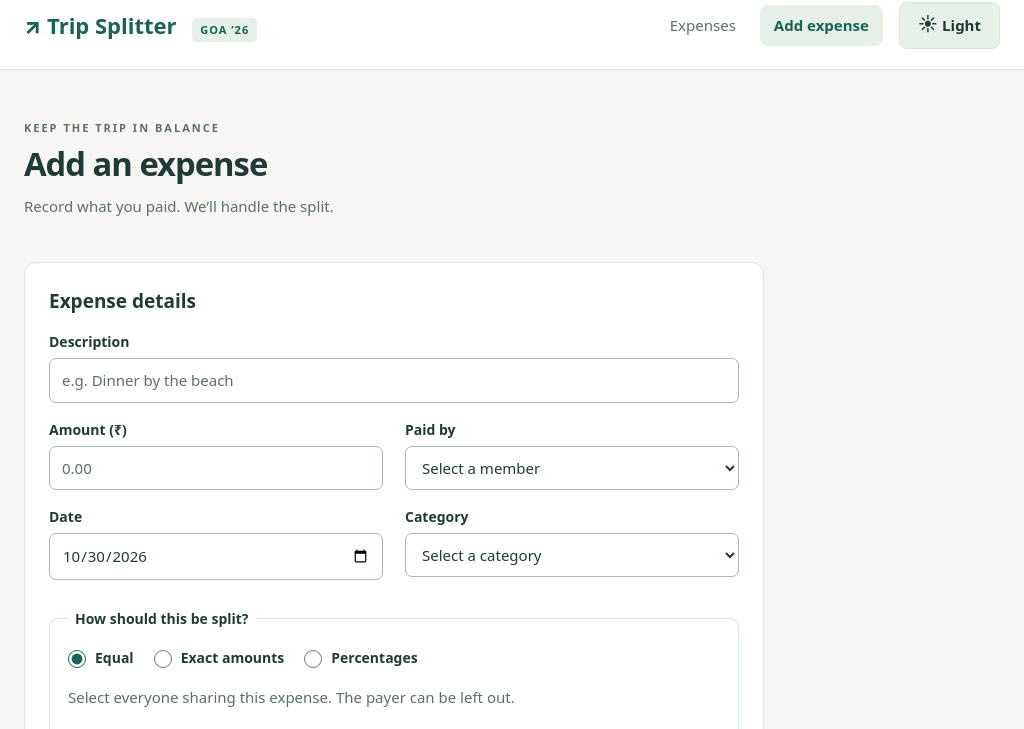
Test: saves a valid Equal expense and navigates home
The width and height of the screenshot is (1024, 729).
Type "Sunset lunch" into the field labelled "Description" at (394, 381), box [49,358,739,403]
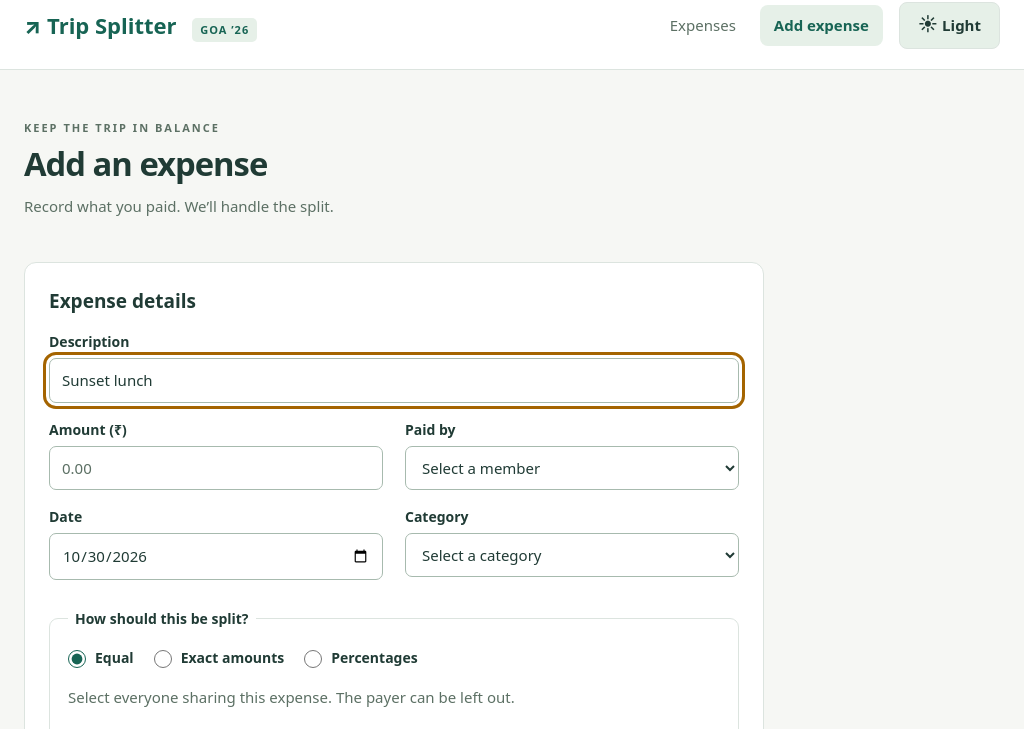
Type "100" into the field labelled "Amount (₹)" at (216, 468), box [49,446,383,490]
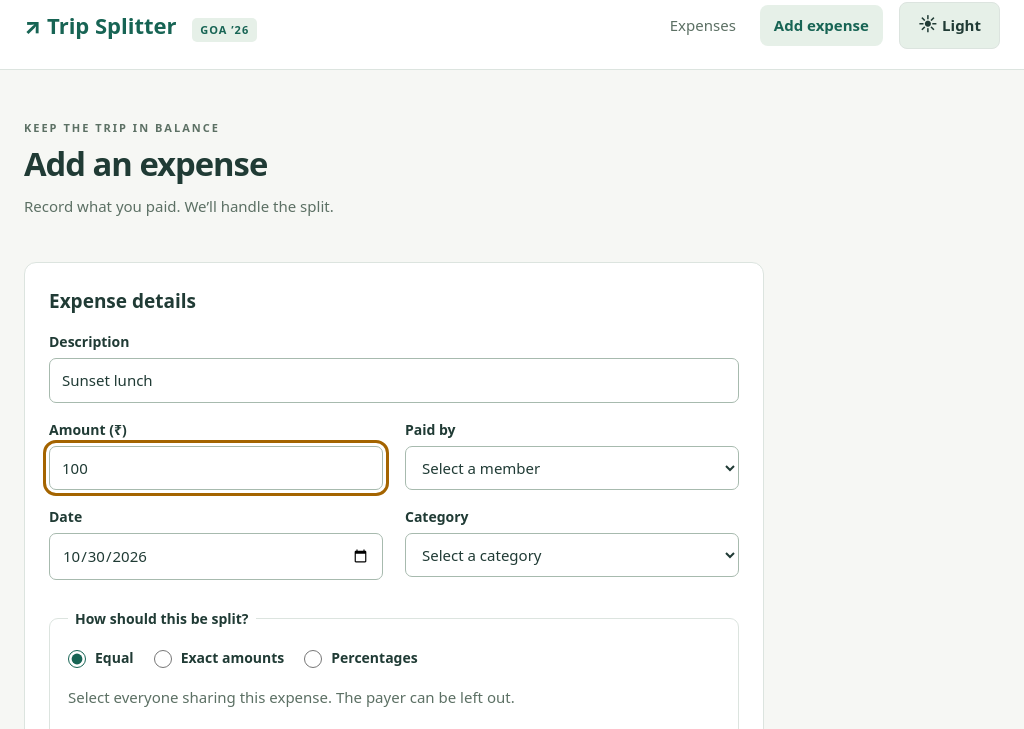
Select "Rohan" in the dropdown labelled "Paid by" at (572, 468), box [405,446,739,490]
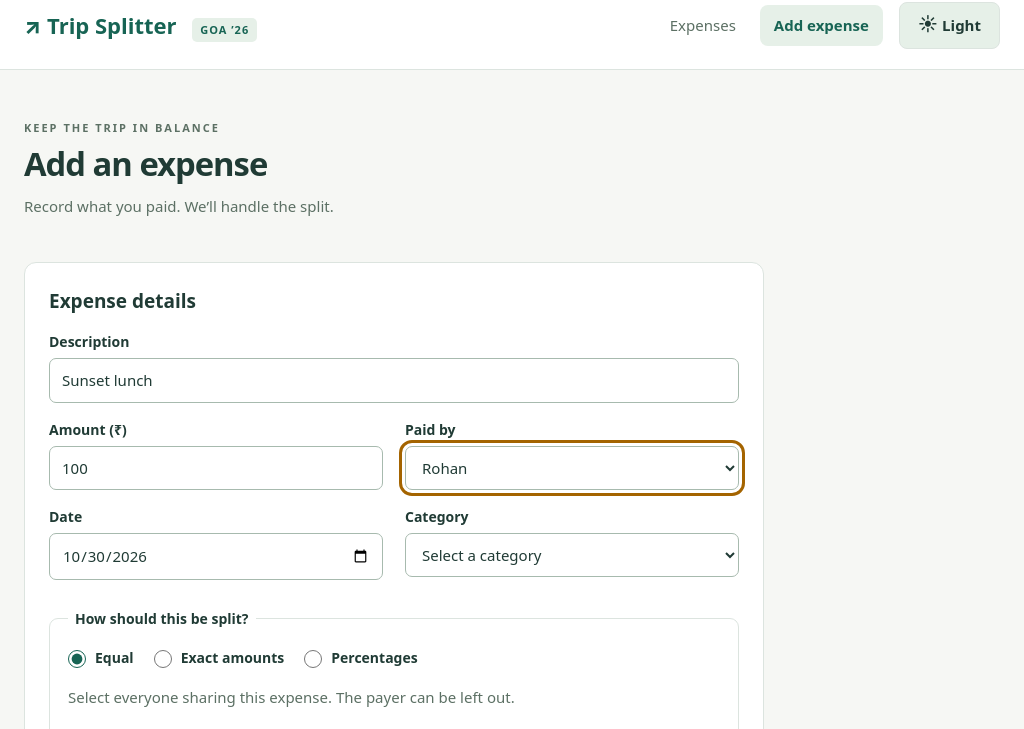
Select "Food" in the dropdown labelled "Category" at (572, 555), box [405,533,739,577]
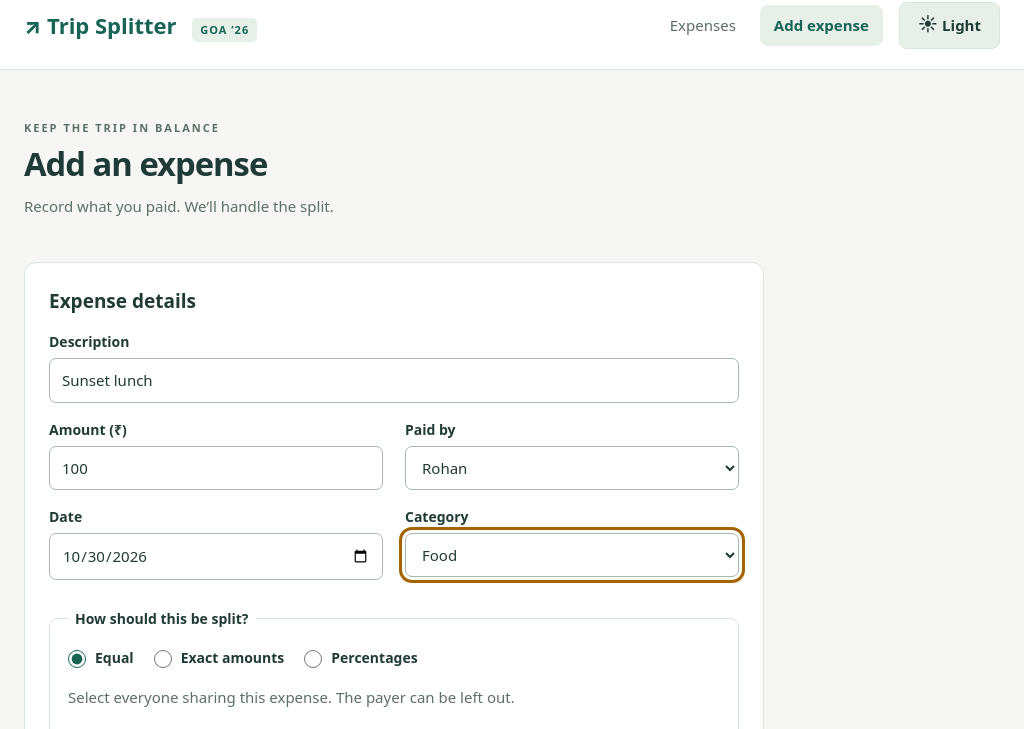
Click the radio button labelled "Equal" at (77, 659), box [68,650,86,668]
(page scrolled)
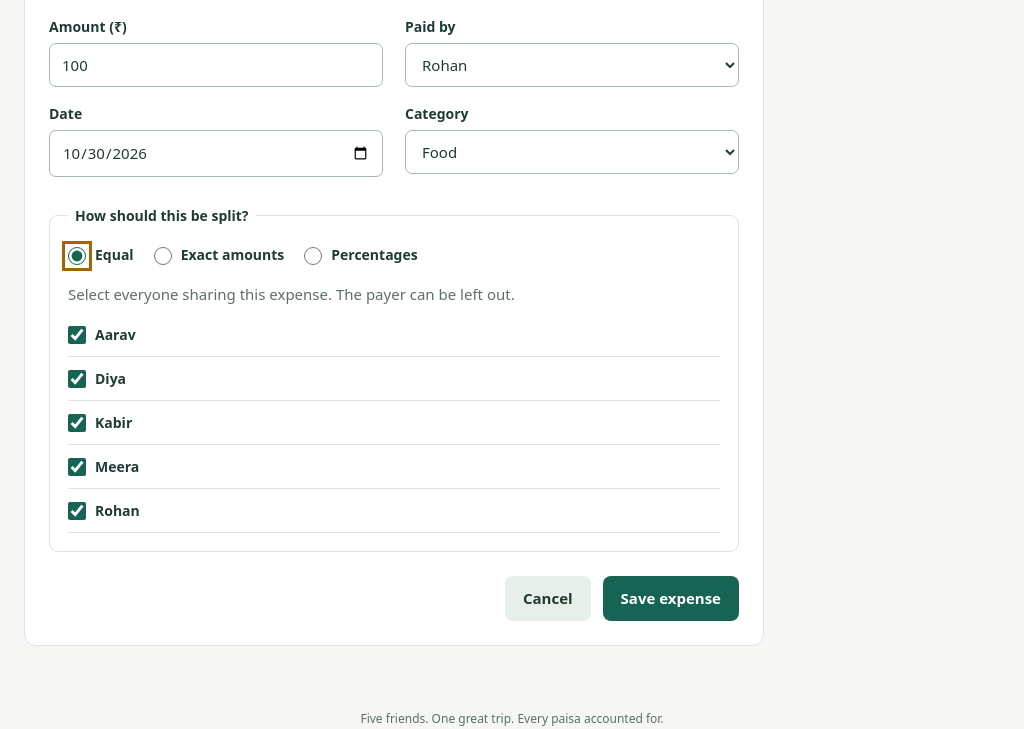
Click the button "Save expense" at (671, 599), box [603,576,739,621]
(page scrolled)
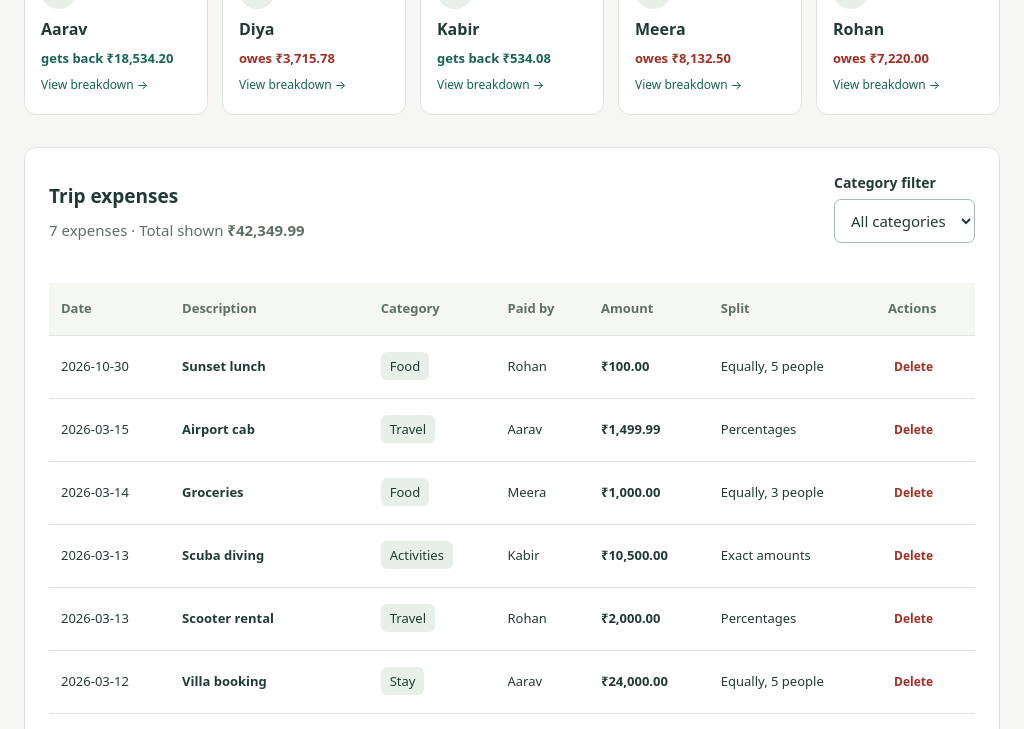
Expected: the button "Sunset lunch" is shown, [182,357,266,377]
